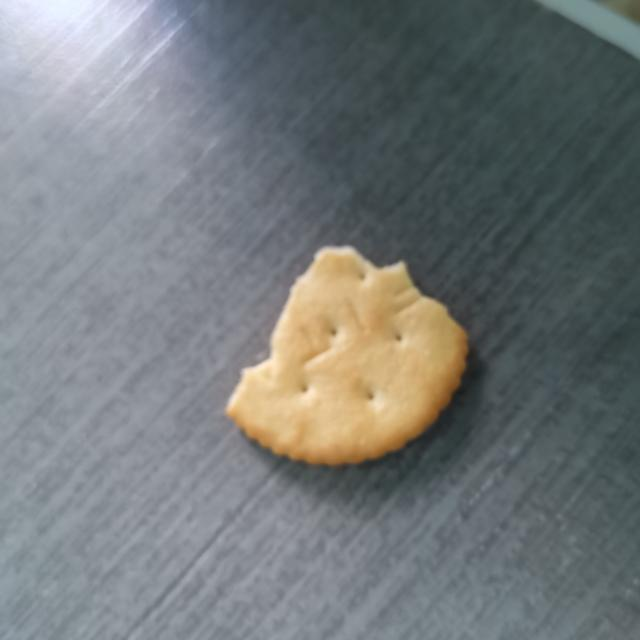Broken: (225, 244, 470, 467)
